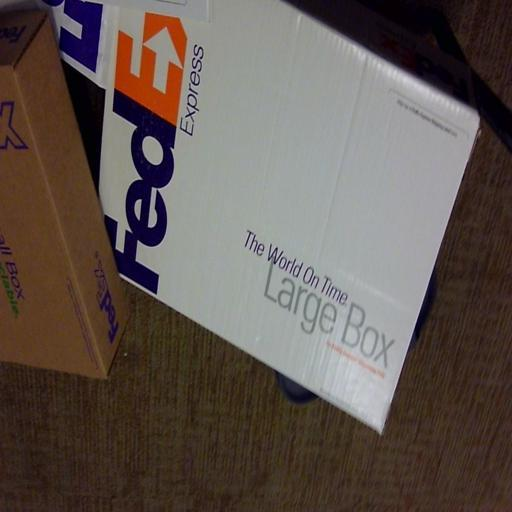Amazon: (107, 0, 478, 426), (0, 15, 124, 361)
